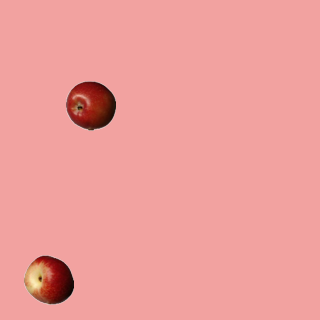Apple Braeburn: (65, 80, 115, 130)
Nectarine: (23, 254, 73, 304)
